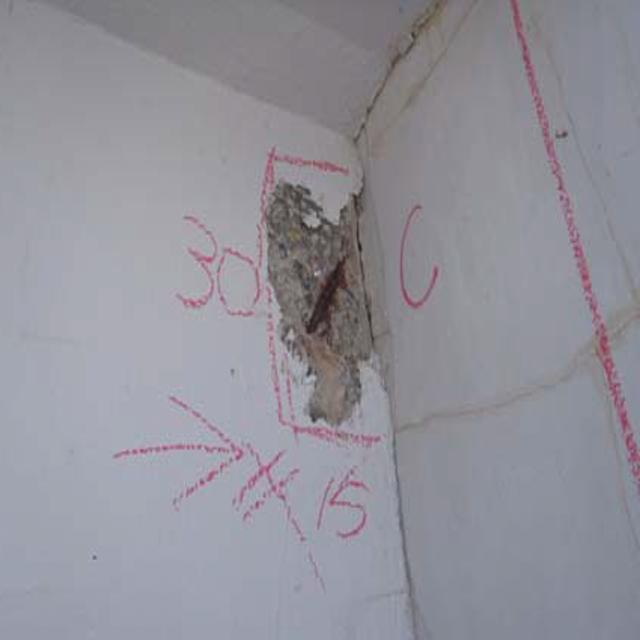spalling: (254, 173, 387, 424)
